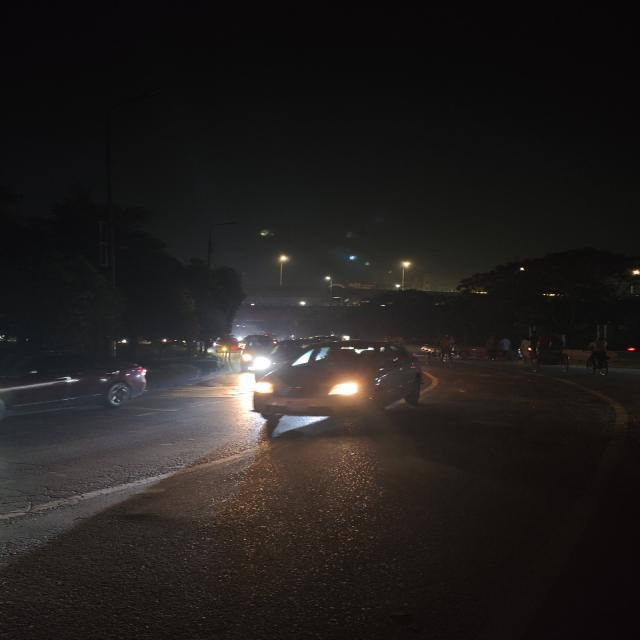bicycle: (582, 342, 615, 377), (434, 334, 462, 367)
car: (248, 337, 436, 427), (0, 346, 151, 429)
rickshaw: (526, 332, 571, 375)
